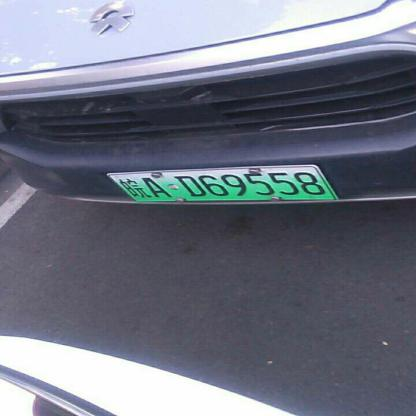lp: (108, 166, 335, 201)
